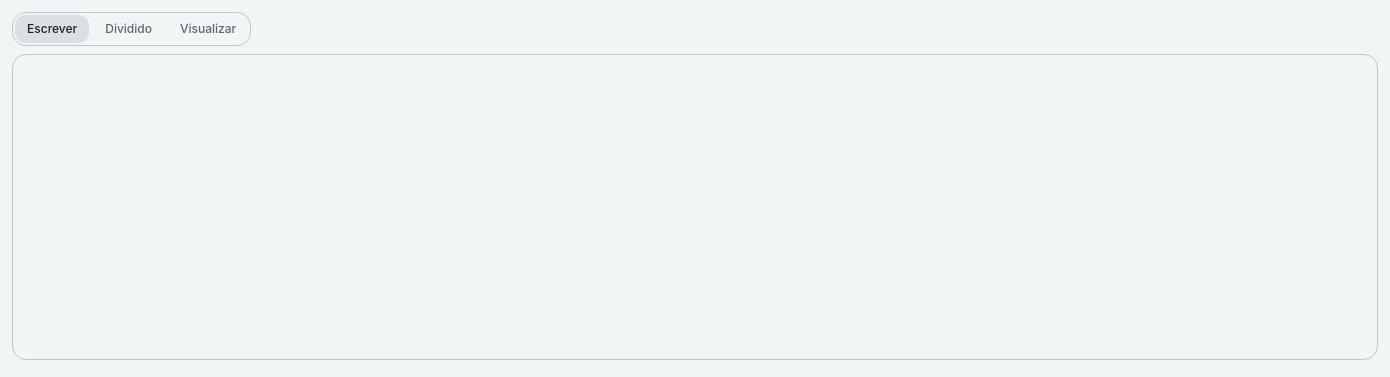
Test case: a visualização vazia avisa que não há nada para ver
Click the button "Visualizar" at (208, 29), box top-left (168, 15), bottom-right (248, 43)
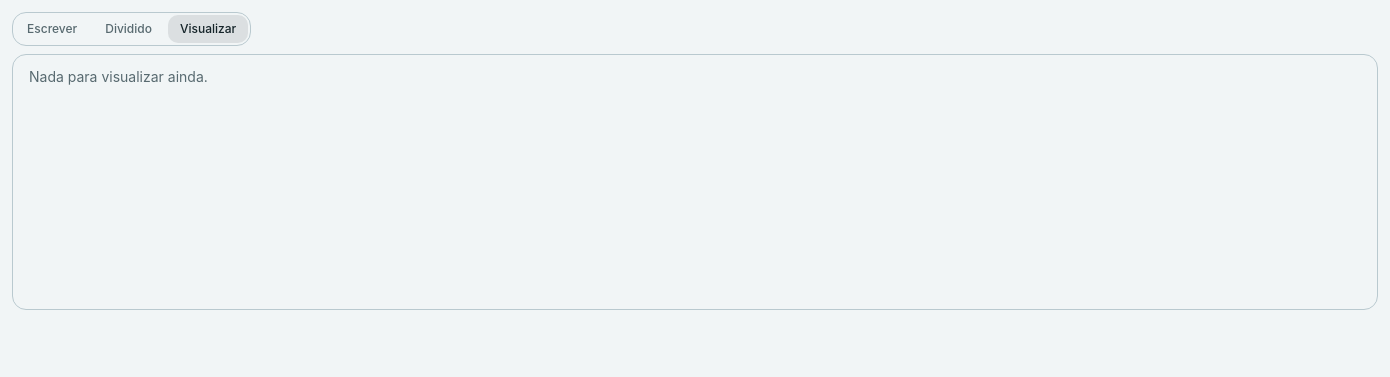
Now the text "Nada para visualizar ainda." is shown, box top-left (29, 68), bottom-right (208, 85)
